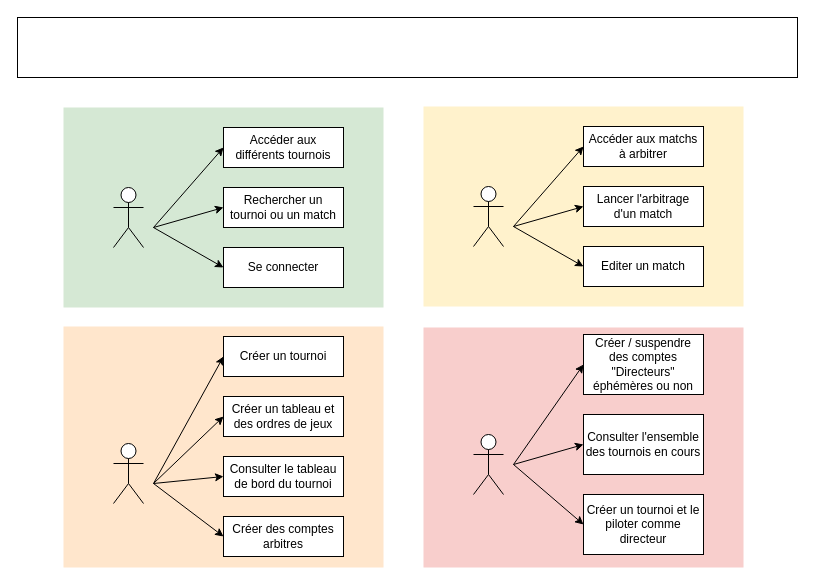
This 815x585 diagram has some shape labels left out. The shapes that lost their labels are listed below. From the top down, each one's centre as x and y in pixels, then its label:
At point (407, 47): "Diagramme de cas d'utilisation".
At point (128, 217): "Visiteur".
At point (488, 216): "Arbitre tournoi".
At point (128, 473): "Directeur tournoi".
At point (488, 464): "Administrateur".
